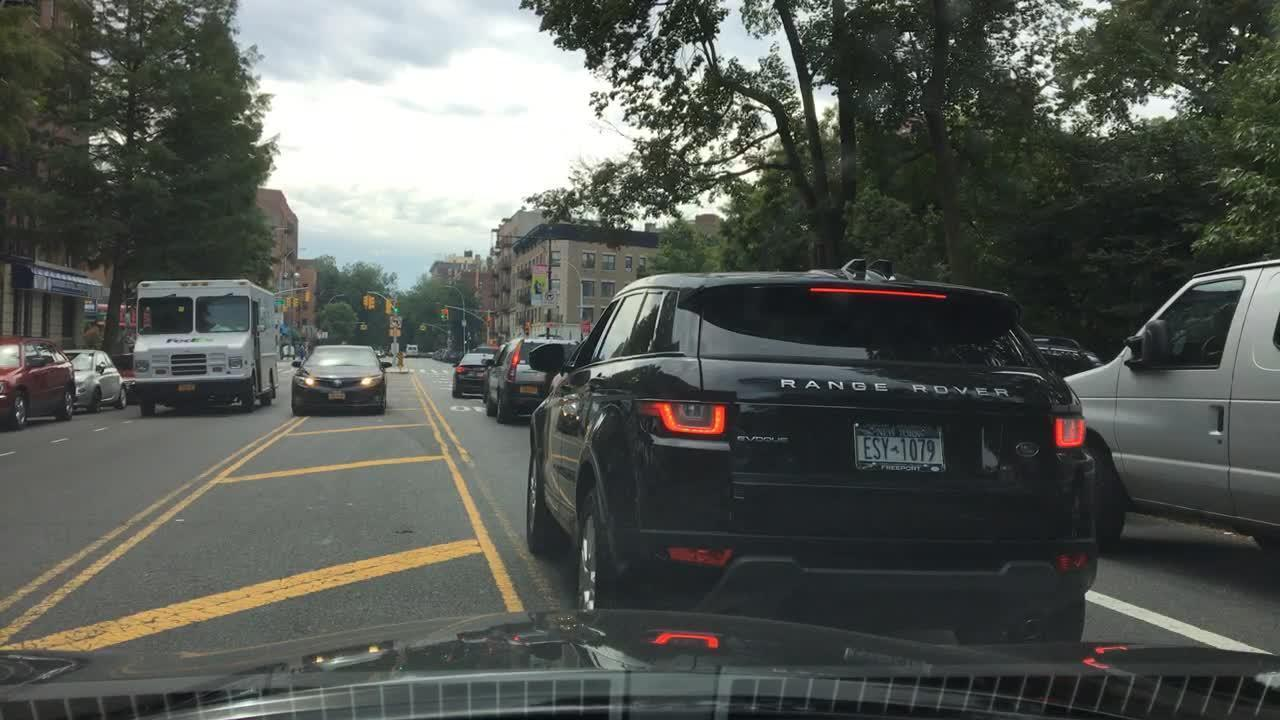range rover: (757, 358, 1017, 406)
